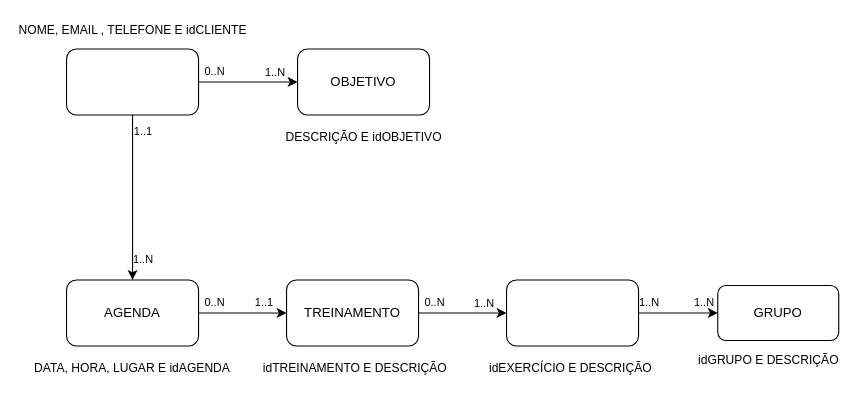
The diagram is 867 pixels wide and 409 high, and some of its shapes have lost their labels. Here are the shapes that lost their labels. From the top down, the centre of each, then its label:
At point (132, 81): "CLIENTE".
At point (572, 312): "EXERCÍCIO".
